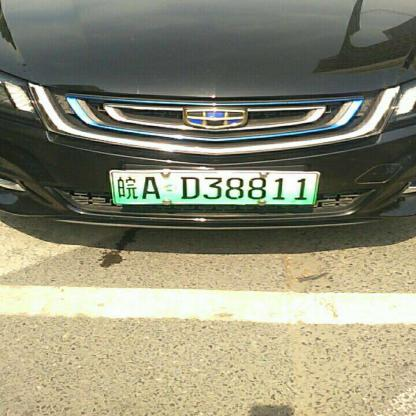lp: (109, 172, 318, 202)
